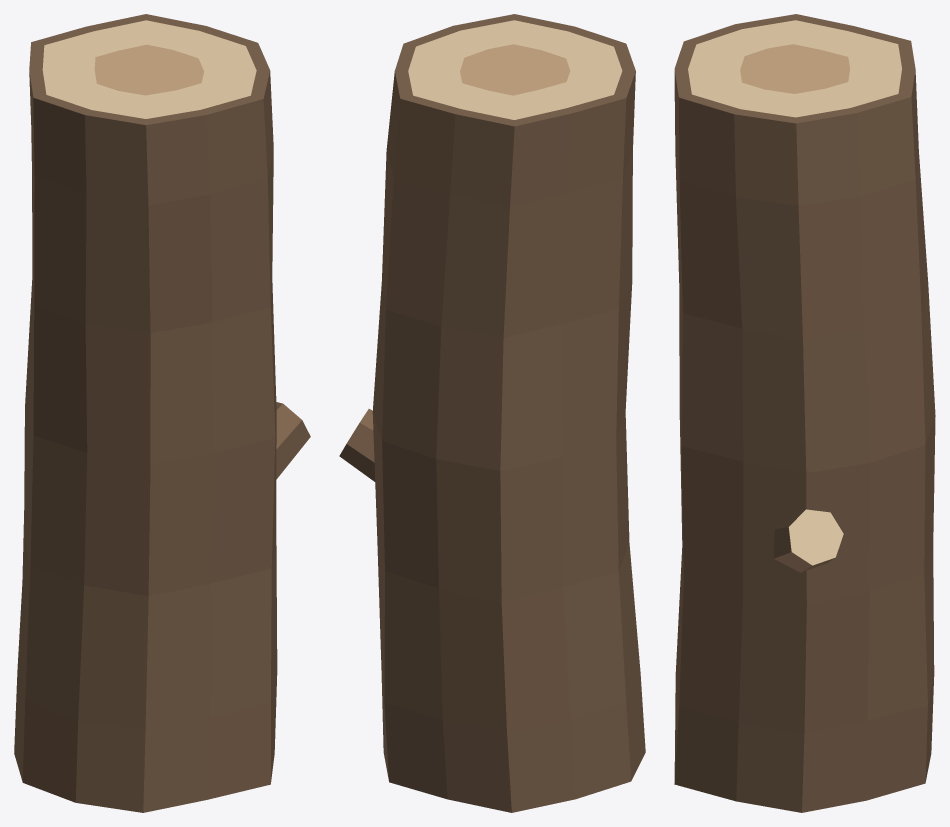
The model's file is log.glb.
The picture shows the model from 3 angles, left to right: view 1: azimuth 30°, elevation 25°; view 2: azimuth 150°, elevation 25°; view 3: azimuth 270°, elevation 25°; orthographic projection.
Parts seen in each view (by area): view 1: Log; view 2: Log; view 3: Log.
Boxes of the visible parts, box(x1,y1,x2,y2) form: Log: box(14, 14, 310, 812); Log: box(339, 14, 645, 812); Log: box(674, 14, 935, 812).
Bounding box in the file's own units: 0.1471 × 0.338 × 0.1168.
